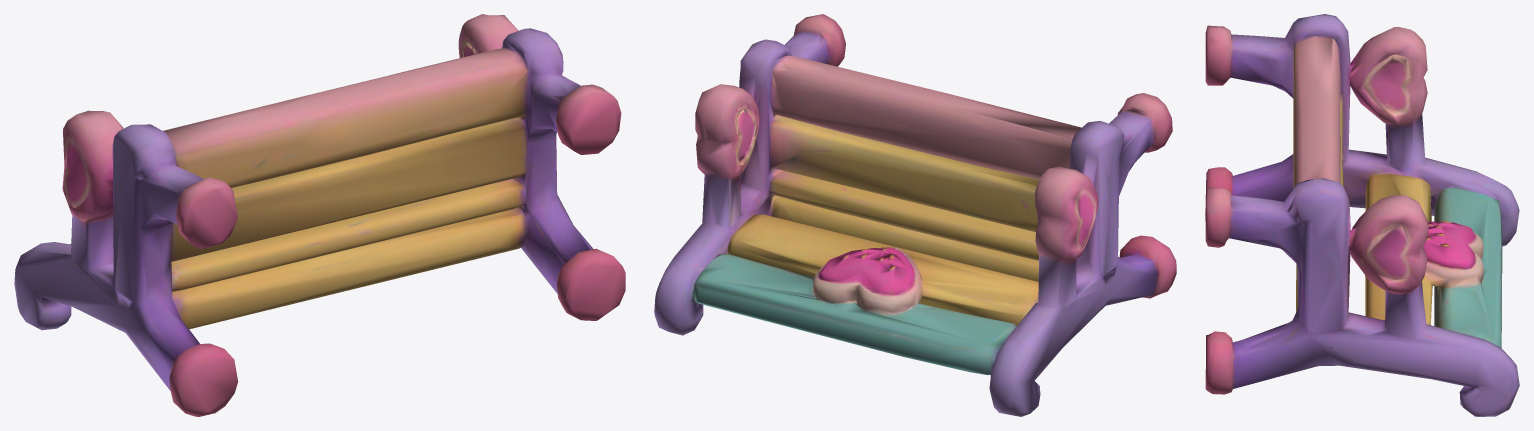
The picture shows the model from 3 angles, left to right: view 1: azimuth 30°, elevation 25°; view 2: azimuth 150°, elevation 25°; view 3: azimuth 270°, elevation 25°; orthographic projection. The views are drawn at different scales.
Parts seen in each view (by area): view 1: material; view 2: material; view 3: material.
Part boxes in pixels (bbox=[...]): material: bbox=[14, 14, 625, 416]; material: bbox=[654, 14, 1176, 416]; material: bbox=[1205, 14, 1519, 416].
Bounding box in the file's own units: 1 × 0.5665 × 0.697.
1 material, 1 textured.
